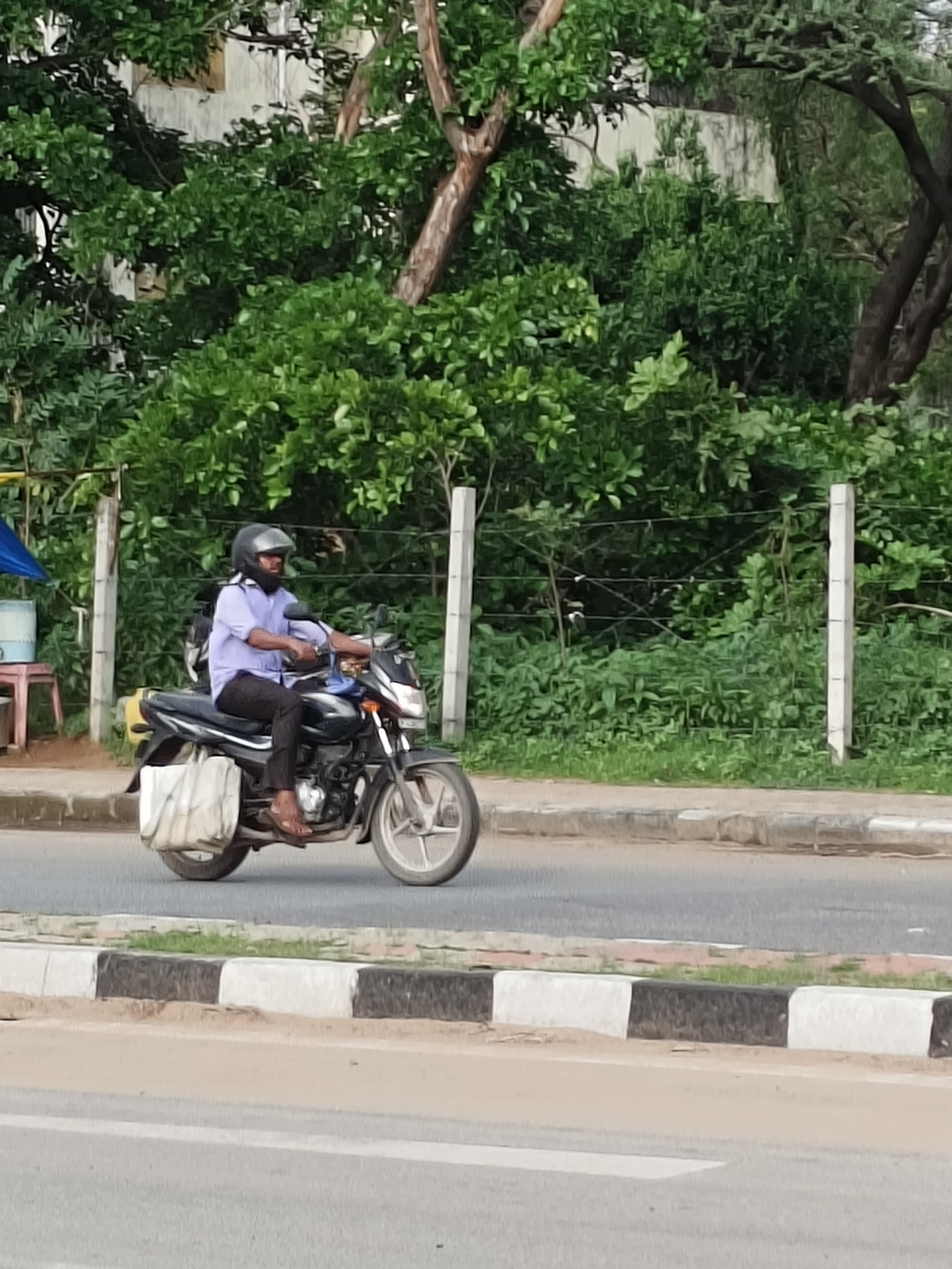BikeWithRider: (113, 513, 491, 894)
Helmet: (221, 515, 305, 591)
